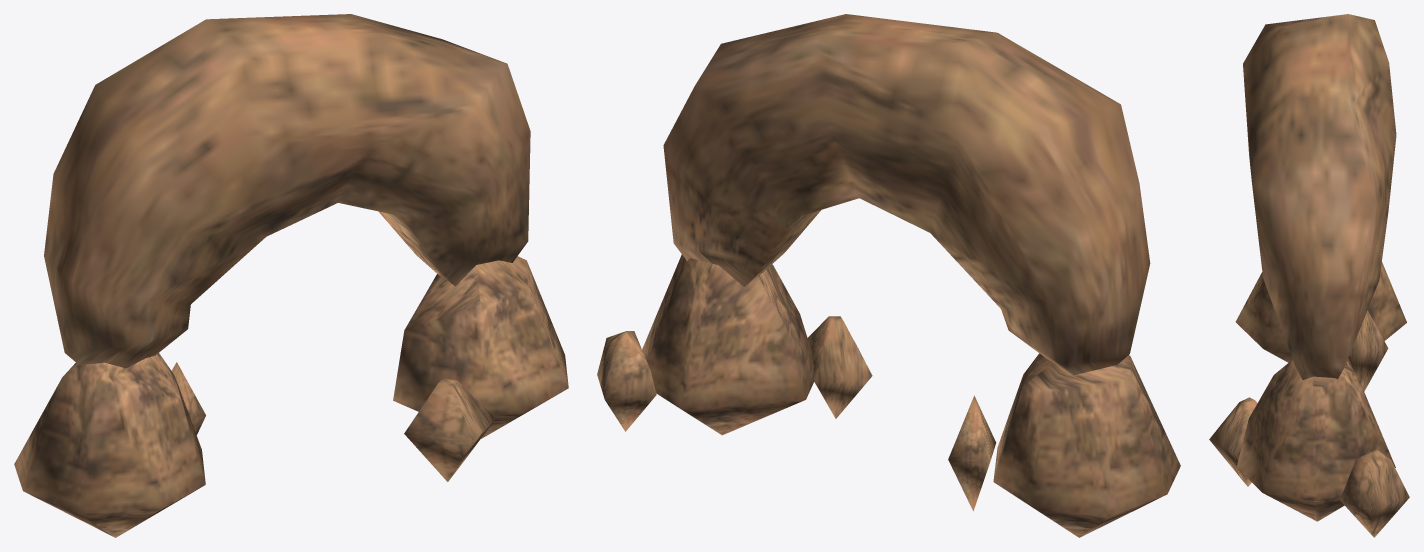
Rendered from rock_tatt_arch_med_l4.fbx.
The picture shows the model from 3 angles, left to right: view 1: azimuth 30°, elevation 25°; view 2: azimuth 150°, elevation 25°; view 3: azimuth 270°, elevation 25°; orthographic projection. The views are drawn at different scales.
Visible parts, largest first — view 1: mesh_node; view 2: mesh_node; view 3: mesh_node.
Boxes of the visible parts, x1=… form: mesh_node: x1=14, y1=14, x2=568, y2=537; mesh_node: x1=597, y1=14, x2=1180, y2=537; mesh_node: x1=1209, y1=14, x2=1409, y2=537.
Bounding box in the file's own units: 52.02 × 43.67 × 19.31.
